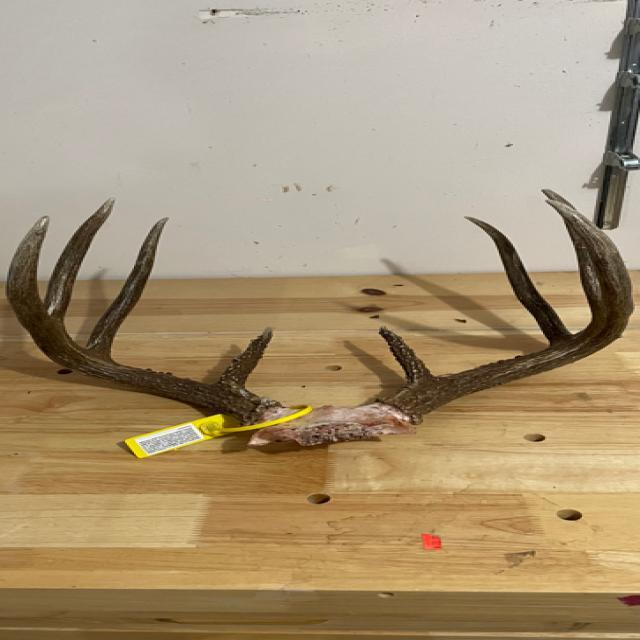L-F: (379, 200, 634, 425)
L-G1: (376, 325, 436, 385)
L-G2: (463, 215, 573, 346)
R-F: (6, 215, 286, 426)
R-G1: (212, 326, 275, 391)
R-G2: (85, 217, 171, 360)
R-G3: (43, 197, 116, 329)
